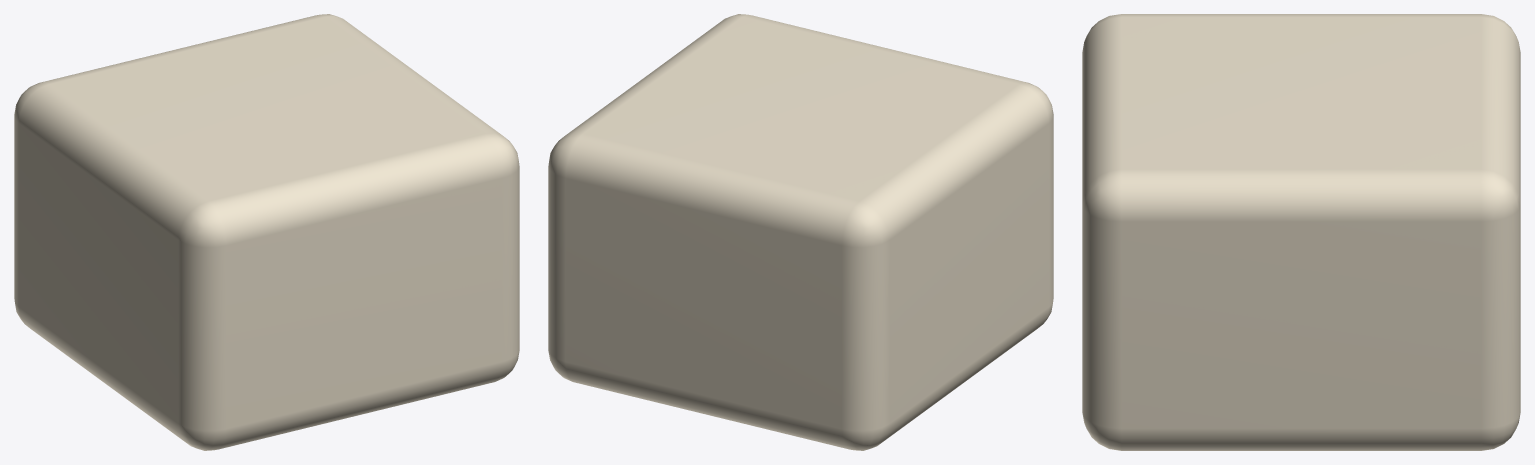
The model's file is ceramic_block.glb.
The picture shows the model from 3 angles, left to right: view 1: azimuth 30°, elevation 25°; view 2: azimuth 150°, elevation 25°; view 3: azimuth 270°, elevation 25°; orthographic projection. The views are drawn at different scales.
Parts seen in each view (by area): view 1: Ceramic block core; view 2: Ceramic block core; view 3: Ceramic block core.
Boxes of the visible parts, <box> form: Ceramic block core: <box>14,14,519,450</box>; Ceramic block core: <box>548,14,1053,450</box>; Ceramic block core: <box>1082,14,1520,450</box>.
Bounding box in the file's own units: 1 × 0.7 × 1.
